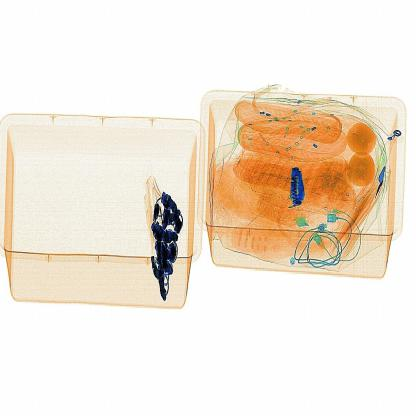scissors: (281, 160, 311, 211)
